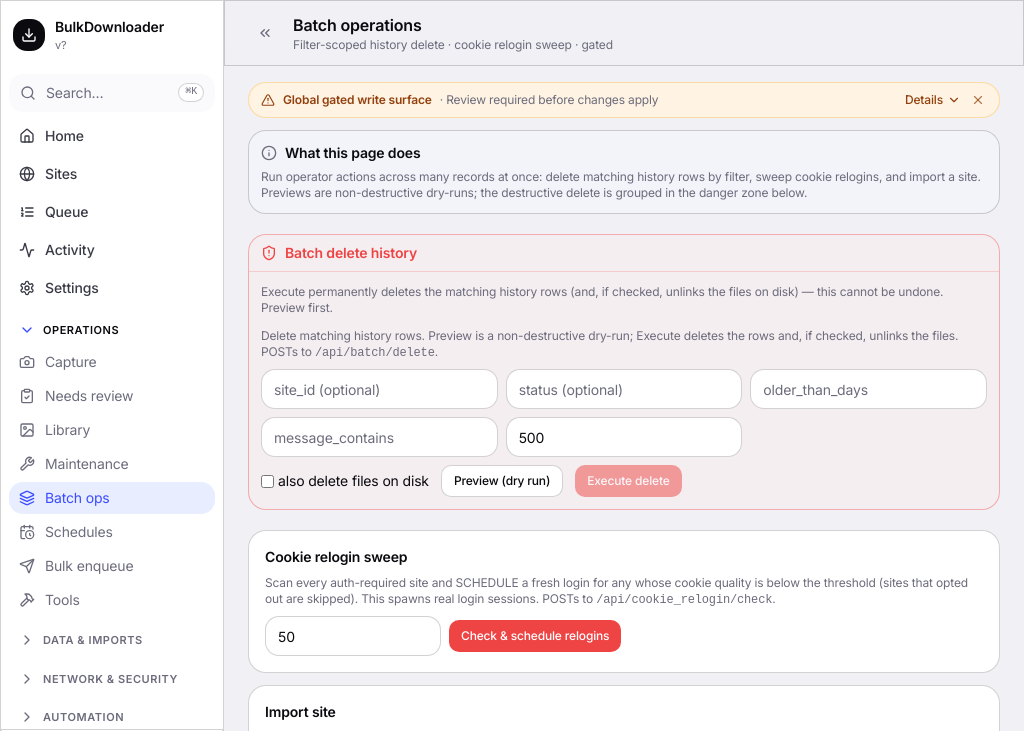
Test: BatchOps executes only the previewed filter (dsq-batch-ops F4) › editing the filter after a preview disables Execute delete until a new preview
Step 1. Type "site-a" into the field with placeholder "site_id (optional)" → (379, 389), box x1=261 y1=369 x2=498 y2=409
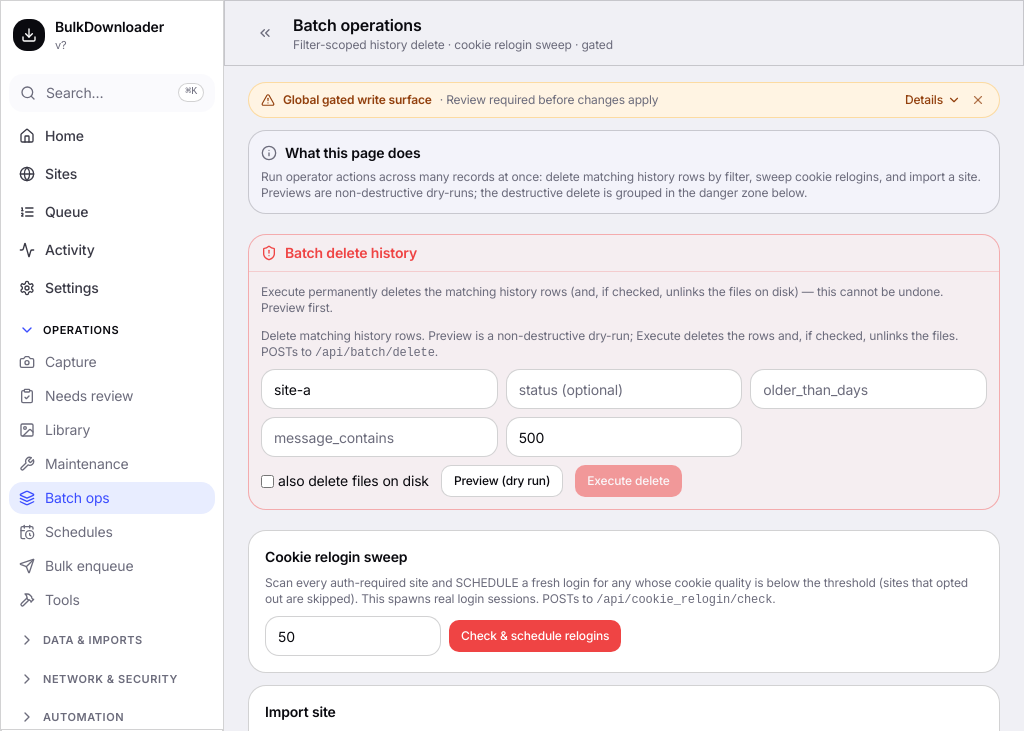
Step 2. Click the button "Preview (dry run)" → (502, 481), box x1=441 y1=465 x2=563 y2=497
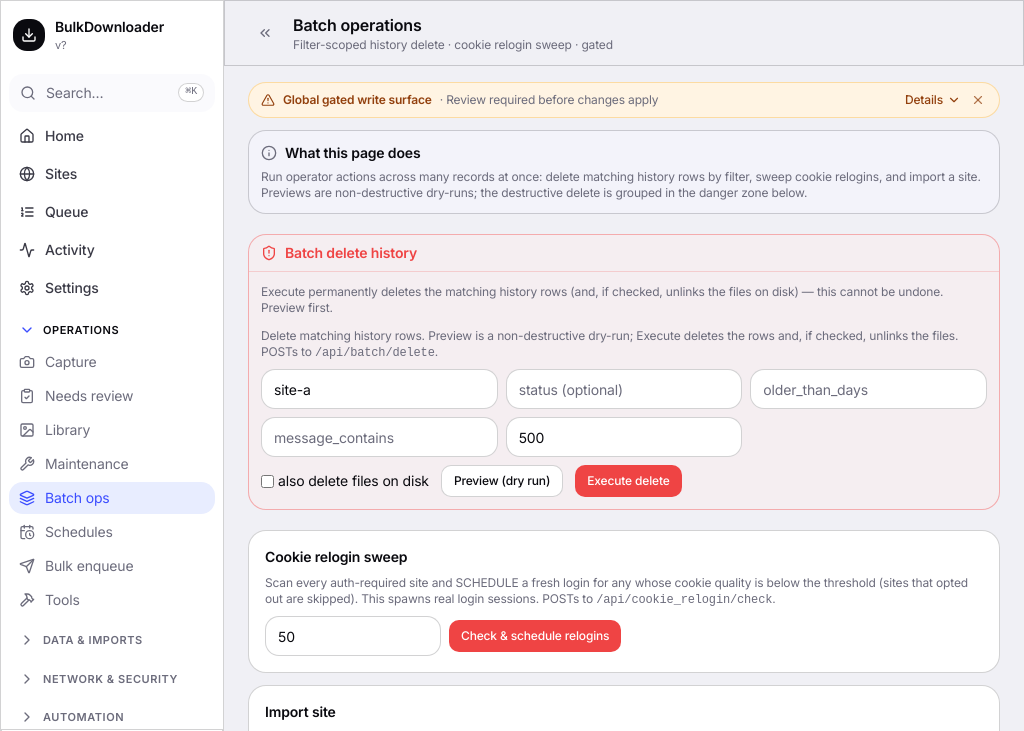
Expected: the button "Execute delete" is enabled, x1=575 y1=465 x2=682 y2=497
Step 3. Clear the 1st field with placeholder "site_id (optional)" → (379, 389), box x1=261 y1=369 x2=498 y2=409
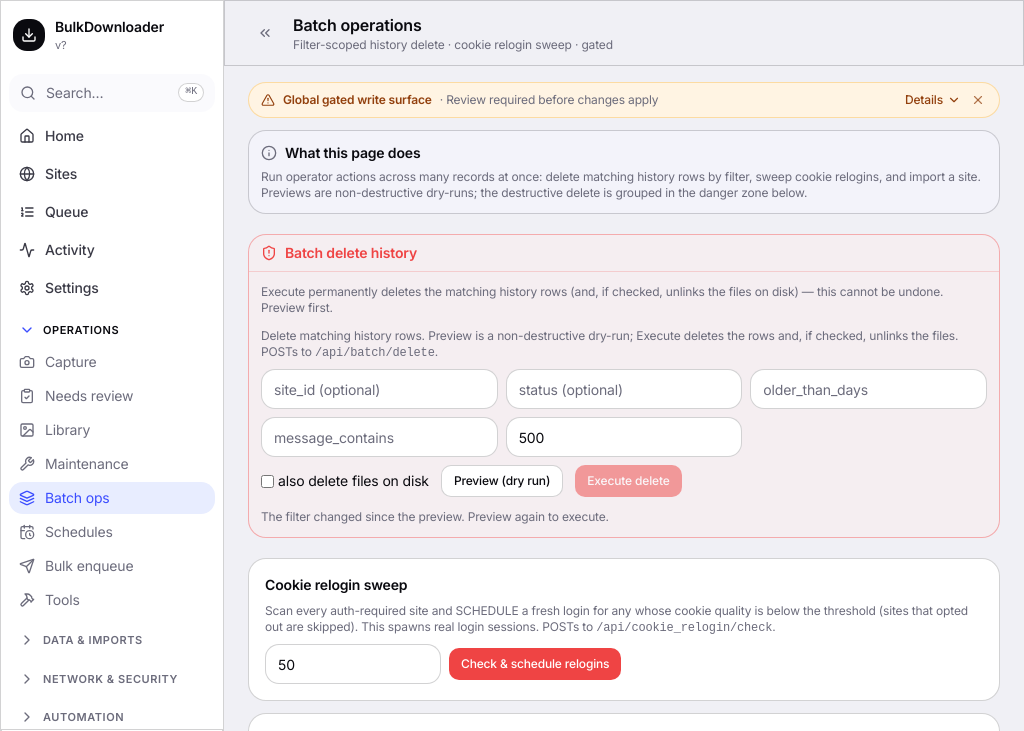
Expected: the button "Execute delete" is disabled, x1=575 y1=465 x2=682 y2=497
Step 4. Click the button "Preview (dry run)" → (502, 481), box x1=441 y1=465 x2=563 y2=497
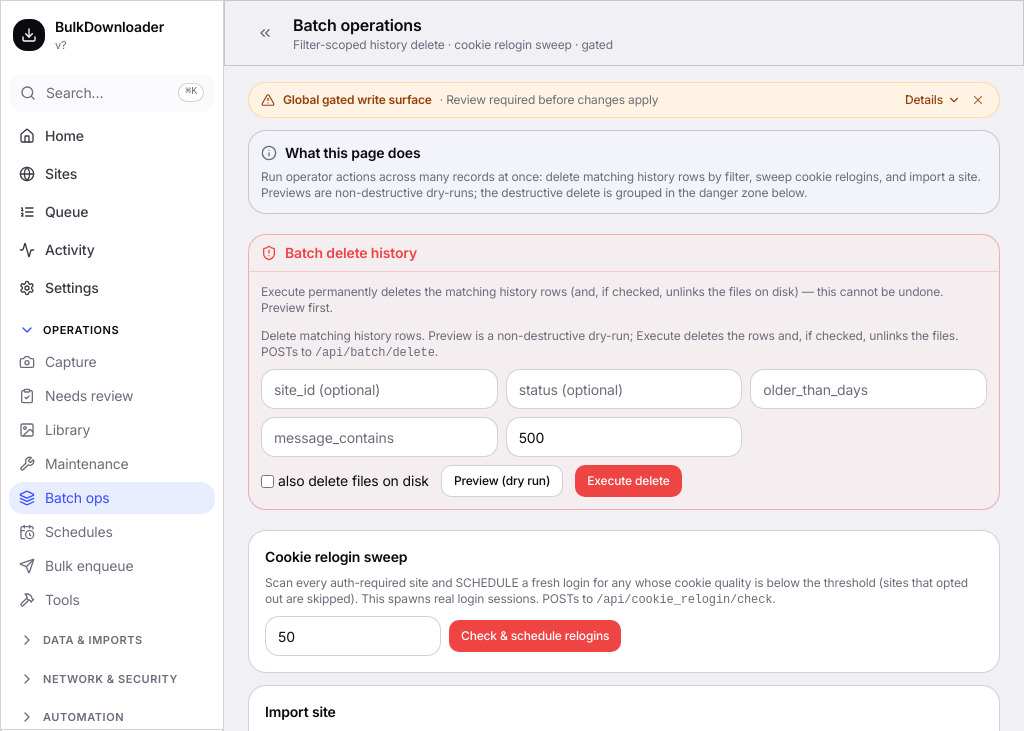
Expected: the button "Execute delete" is enabled, x1=575 y1=465 x2=682 y2=497
